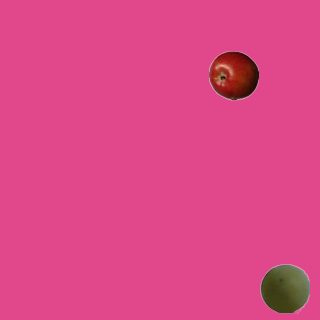Apple Braeburn: (208, 50, 258, 100)
Grape White 4: (259, 263, 309, 313)
